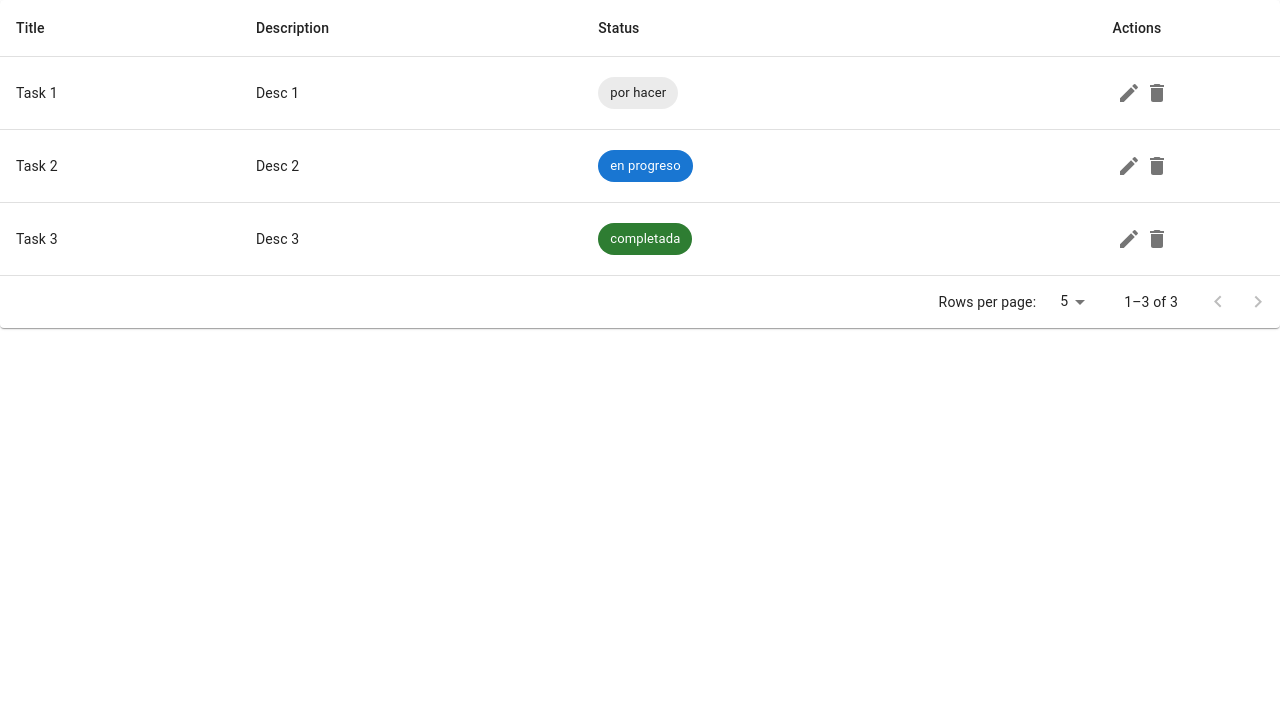
Test: TaskList Component › opens edit form when edit icon is clicked
This screenshot has width=1280, height=720.
Click the button named "edit" in the row of "Task 2" at (1129, 166), box x1=1109 y1=146 x2=1149 y2=186
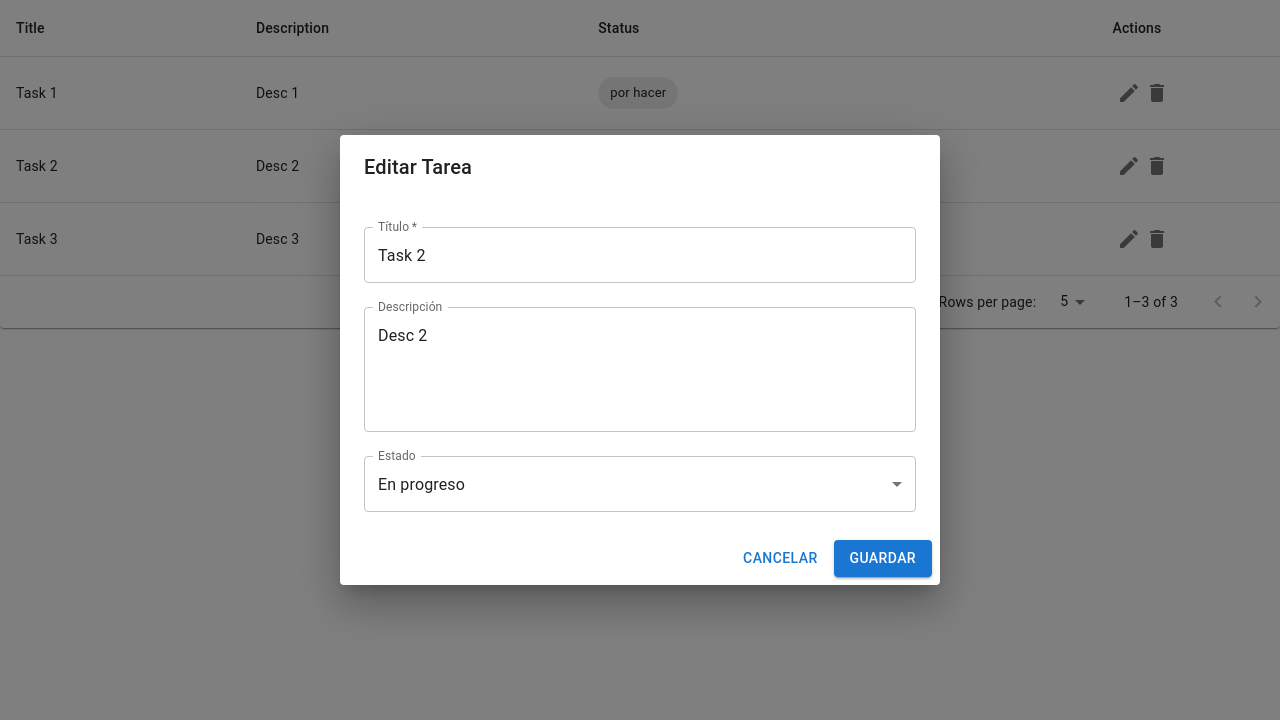
expect the heading "Editar Tarea" is shown: met, box x1=364 y1=155 x2=472 y2=179
